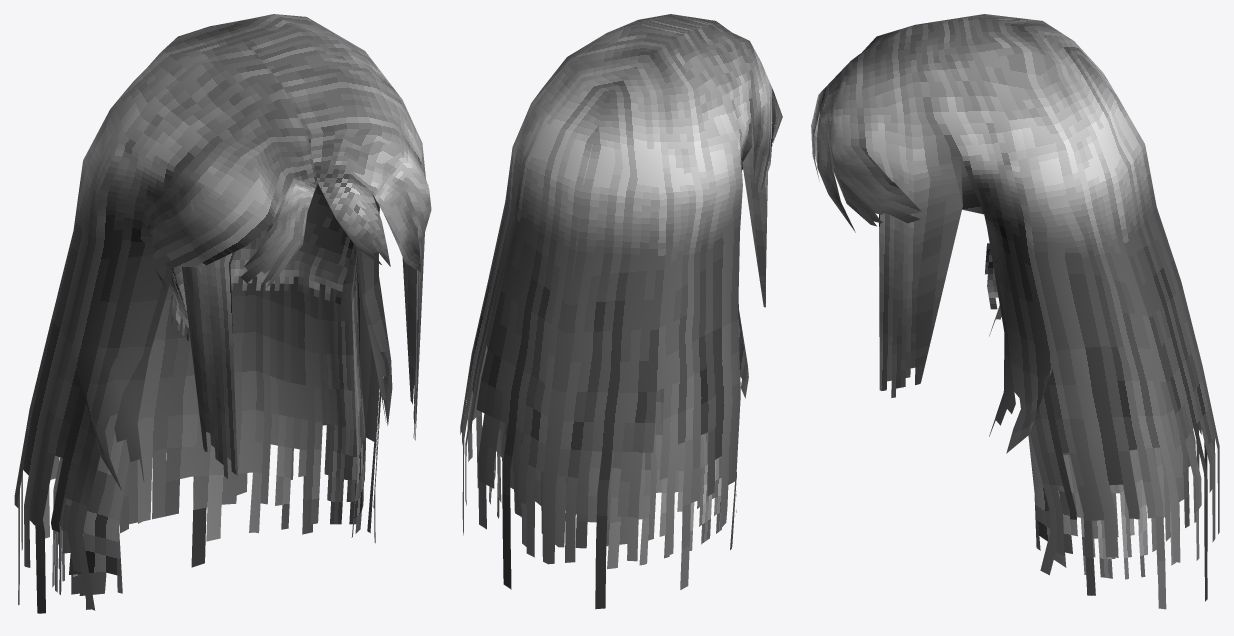
File: f_head023.glb
The picture shows the model from 3 angles, left to right: view 1: azimuth 30°, elevation 25°; view 2: azimuth 150°, elevation 25°; view 3: azimuth 270°, elevation 25°; orthographic projection. The views are drawn at different scales.
Size of the model in its own units: 26.17 by 49.17 by 32.03.
Materials: 1 (1 with a texture image).
